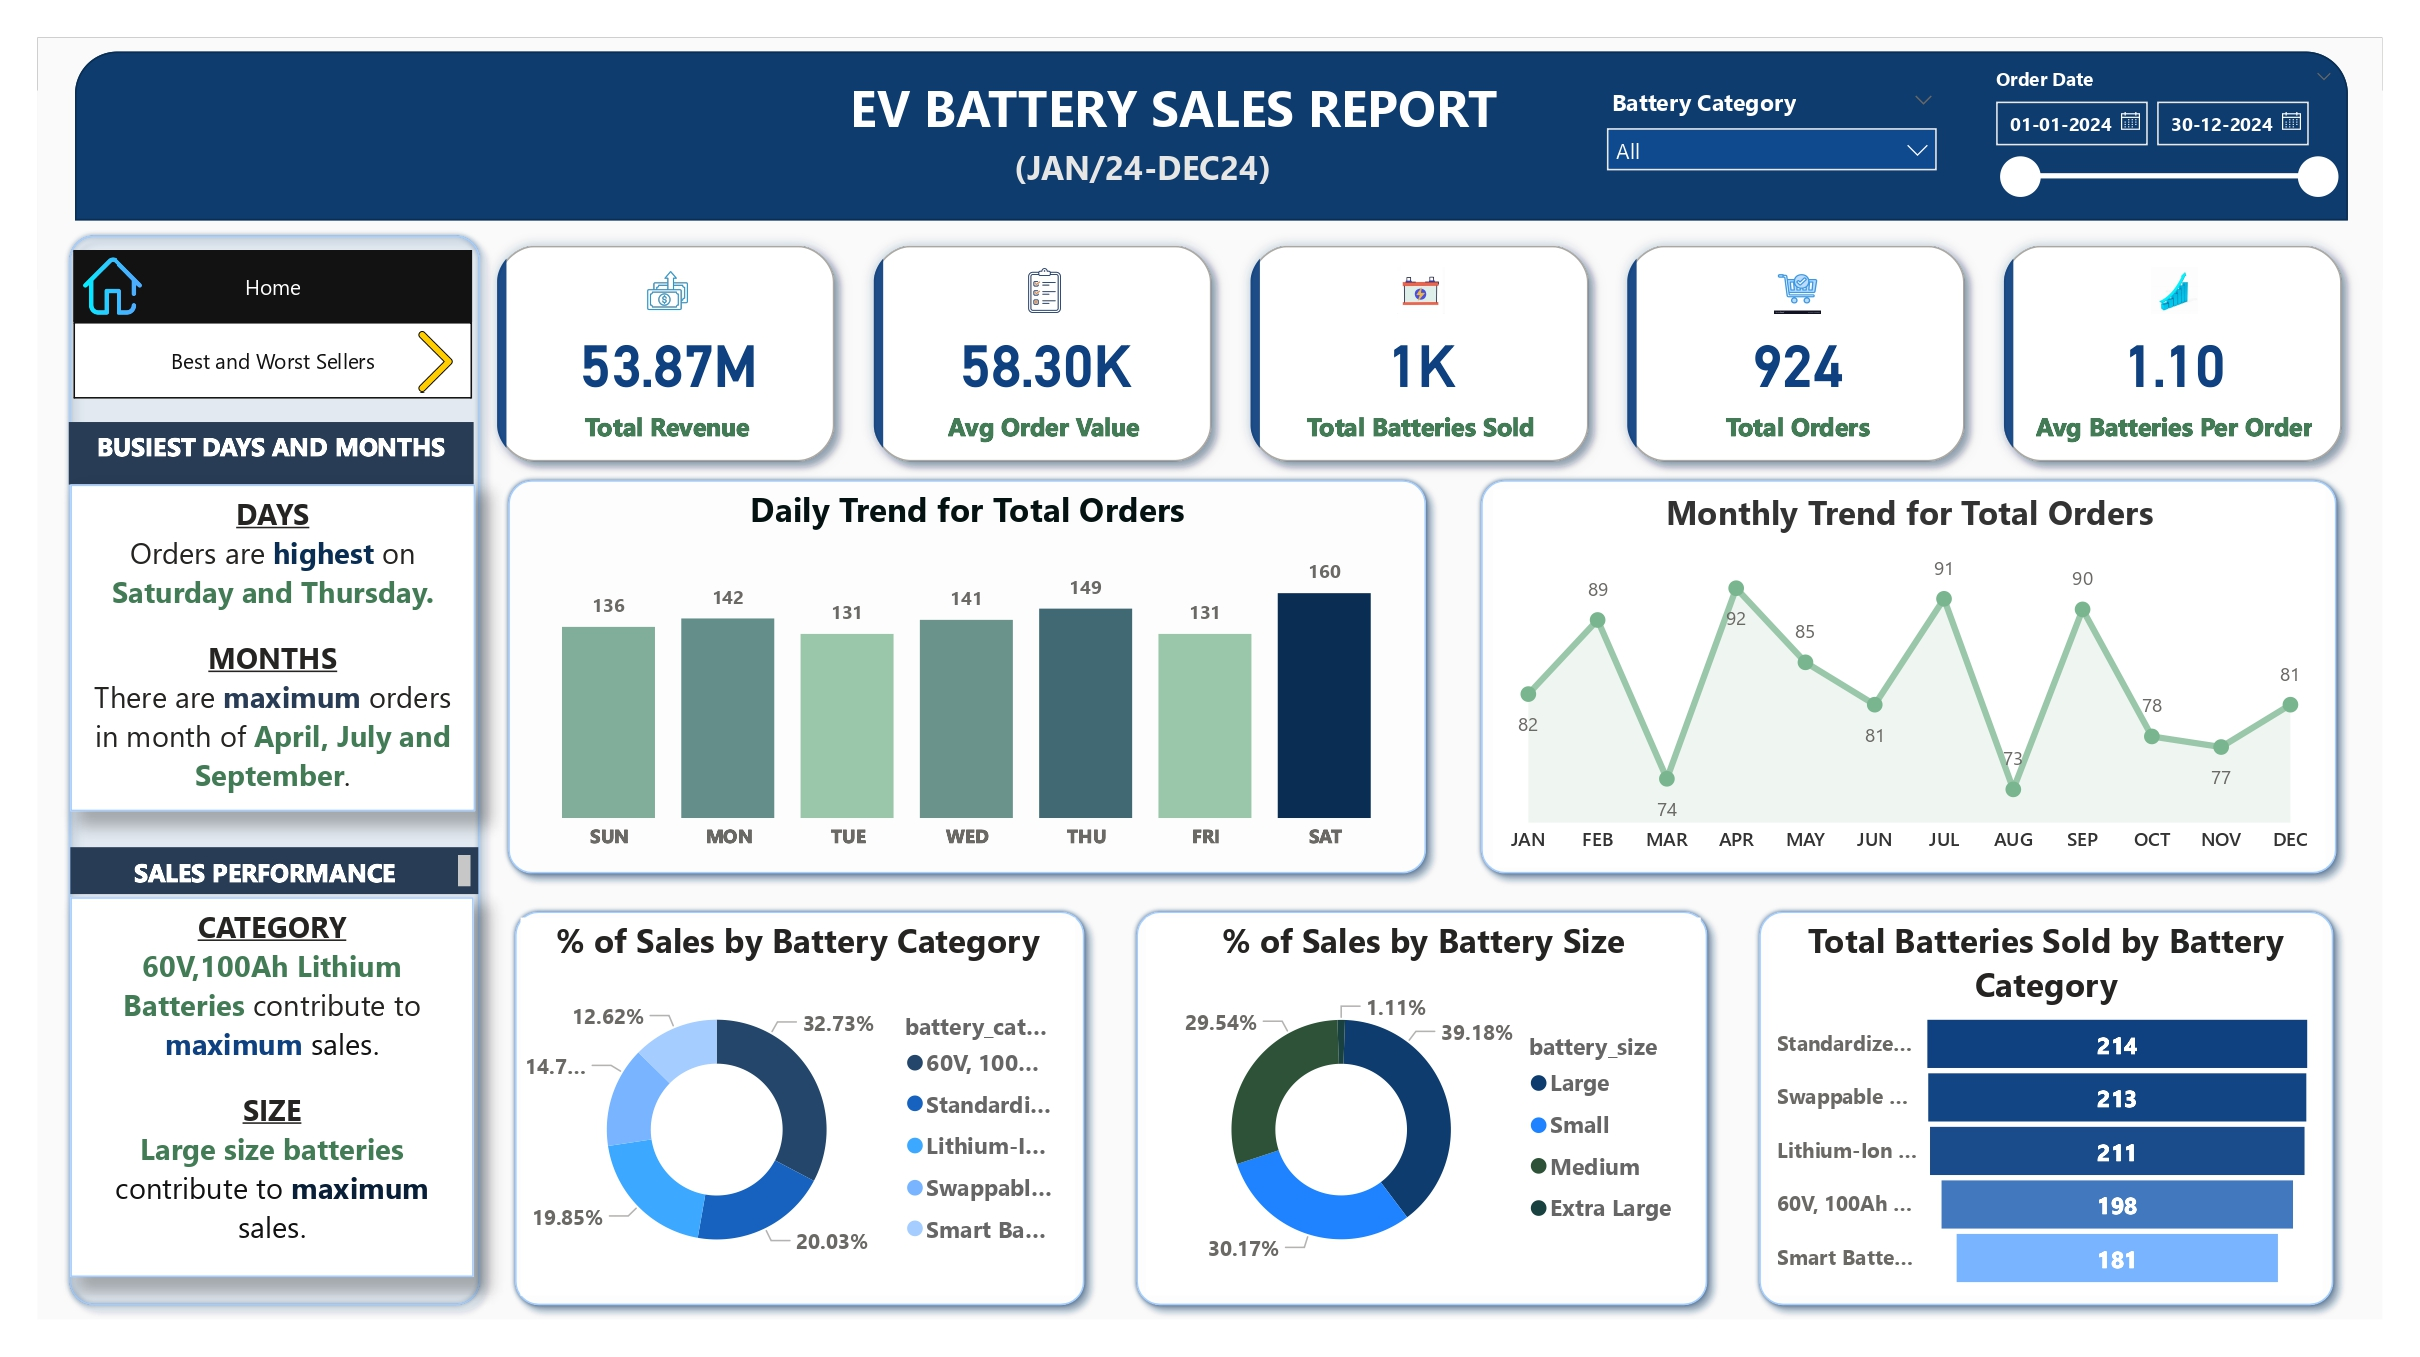

What the dashboard file says about the page in this screenshot:
{"tool":"powerbi","page":{"name":"Home","canvas":[1500,820],"ordinal":0},"visuals":[{"type":"shape","box":[11.1,116.6,281.3,703.1],"z":0},{"type":"cardVisual","fields":{"Data":["ev_batteries.Total Revenue","ev_batteries.Avg Order Value","ev_batteries.Total Batteries Sold","ev_batteries.Total Orders","ev_batteries.Avg Batteries Per Order"]},"box":[279.4,116.6,1212,170.2],"z":1000},{"type":"shape","box":[24.1,9.3,1454.4,107.3],"z":2000},{"type":"textbox","box":[486.6,16.7,462.6,55.5],"z":3000},{"type":"textbox","box":[619.9,62.9,203.5,42.6],"z":4000},{"type":"shape","box":[292.4,273.9,605.1,270.2],"z":5000},{"type":"clusteredColumnChart","title":"Daily Trend for Total Orders","fields":{"Category":["ev_batteries.Order_Day"],"Y":["ev_batteries.Total Orders"]},"box":[299.8,286.8,590.3,242.4],"z":6000},{"type":"shape","box":[914.1,273.9,566.2,270.2],"z":7000},{"type":"areaChart","title":"Monthly Trend for Total Orders","fields":{"Category":["ev_batteries.Order_MONTH"],"Y":["ev_batteries.Total Orders"]},"box":[930.7,288.7,532.9,242.4],"z":8000},{"type":"shape","box":[296.1,549.6,383,270.2],"z":9000},{"type":"shape","box":[693.9,549.6,383,270.2],"z":10000},{"type":"shape","box":[1091.7,549.6,386.7,270.2],"z":11000},{"type":"donutChart","title":"% of Sales by Battery  Size","fields":{"Y":["ev_batteries.Total Revenue"],"Category":["ev_batteries.battery_size"]},"box":[708.7,562.5,355.3,242.4],"z":12000},{"type":"donutChart","title":"% of Sales by Battery  Category","fields":{"Category":["ev_batteries.battery_category"],"Y":["ev_batteries.Total Revenue"]},"box":[309,562.5,355.3,242.4],"z":13000},{"type":"funnel","title":"Total Batteries Sold by Battery  Category","fields":{"Category":["ev_batteries.battery_category"],"Y":["ev_batteries.Total Batteries Sold"]},"box":[1108.4,562.5,353.4,242.4],"z":14000},{"type":"textbox","box":[19.6,246.4,258.9,39.3],"z":15000},{"type":"textbox","box":[21.4,550,257.1,242.9],"z":16000},{"type":"textbox","box":[21.4,517.9,260.7,30.4],"z":17000},{"type":"textbox","box":[21.4,285.7,258.9,208.9],"z":18000},{"type":"slicer","fields":{"Values":["ev_batteries.order_date"]},"box":[1239.7,13,240.5,99.9],"z":19000},{"type":"slicer","fields":{"Values":["ev_batteries.battery_category"]},"box":[993.6,25.9,231.3,74],"z":20000},{"type":"pageNavigator","box":[23.2,135.7,255.4,46.4],"z":21000},{"type":"pageNavigator","box":[23.2,182.1,255.4,50],"z":22000},{"type":"image","box":[230.1,177.5,48.9,59.8],"z":23000},{"type":"image","box":[23.5,130.4,48.9,58],"z":23001}]}

Visuals, with their boxes in screenshot pixels (x1, y1, x2, y2):
shape: detection(55, 220, 495, 1319)
cardVisual - ev_batteries.Total Revenue x ev_batteries.Avg Order Value: detection(474, 220, 2369, 486)
shape: detection(75, 52, 2349, 220)
textbox: detection(798, 64, 1521, 150)
textbox: detection(1007, 136, 1325, 202)
shape: detection(495, 466, 1441, 888)
"Daily Trend for Total Orders" clusteredColumnChart: detection(506, 486, 1429, 865)
shape: detection(1467, 466, 2352, 888)
"Monthly Trend for Total Orders" areaChart: detection(1492, 489, 2326, 868)
shape: detection(500, 897, 1099, 1319)
shape: detection(1122, 897, 1721, 1319)
shape: detection(1744, 897, 2349, 1319)
"% of Sales by Battery  Size" donutChart: detection(1145, 917, 1701, 1296)
"% of Sales by Battery  Category" donutChart: detection(521, 917, 1076, 1296)
"Total Batteries Sold by Battery  Category" funnel: detection(1770, 917, 2323, 1296)
textbox: detection(68, 423, 473, 484)
textbox: detection(71, 897, 473, 1277)
textbox: detection(71, 847, 479, 895)
textbox: detection(71, 484, 476, 811)
slicer - ev_batteries.order_date: detection(1976, 58, 2352, 214)
slicer - ev_batteries.battery_category: detection(1591, 78, 1952, 194)
pageNavigator: detection(74, 250, 473, 322)
pageNavigator: detection(74, 322, 473, 400)
image: detection(397, 315, 474, 409)
image: detection(74, 241, 151, 332)
